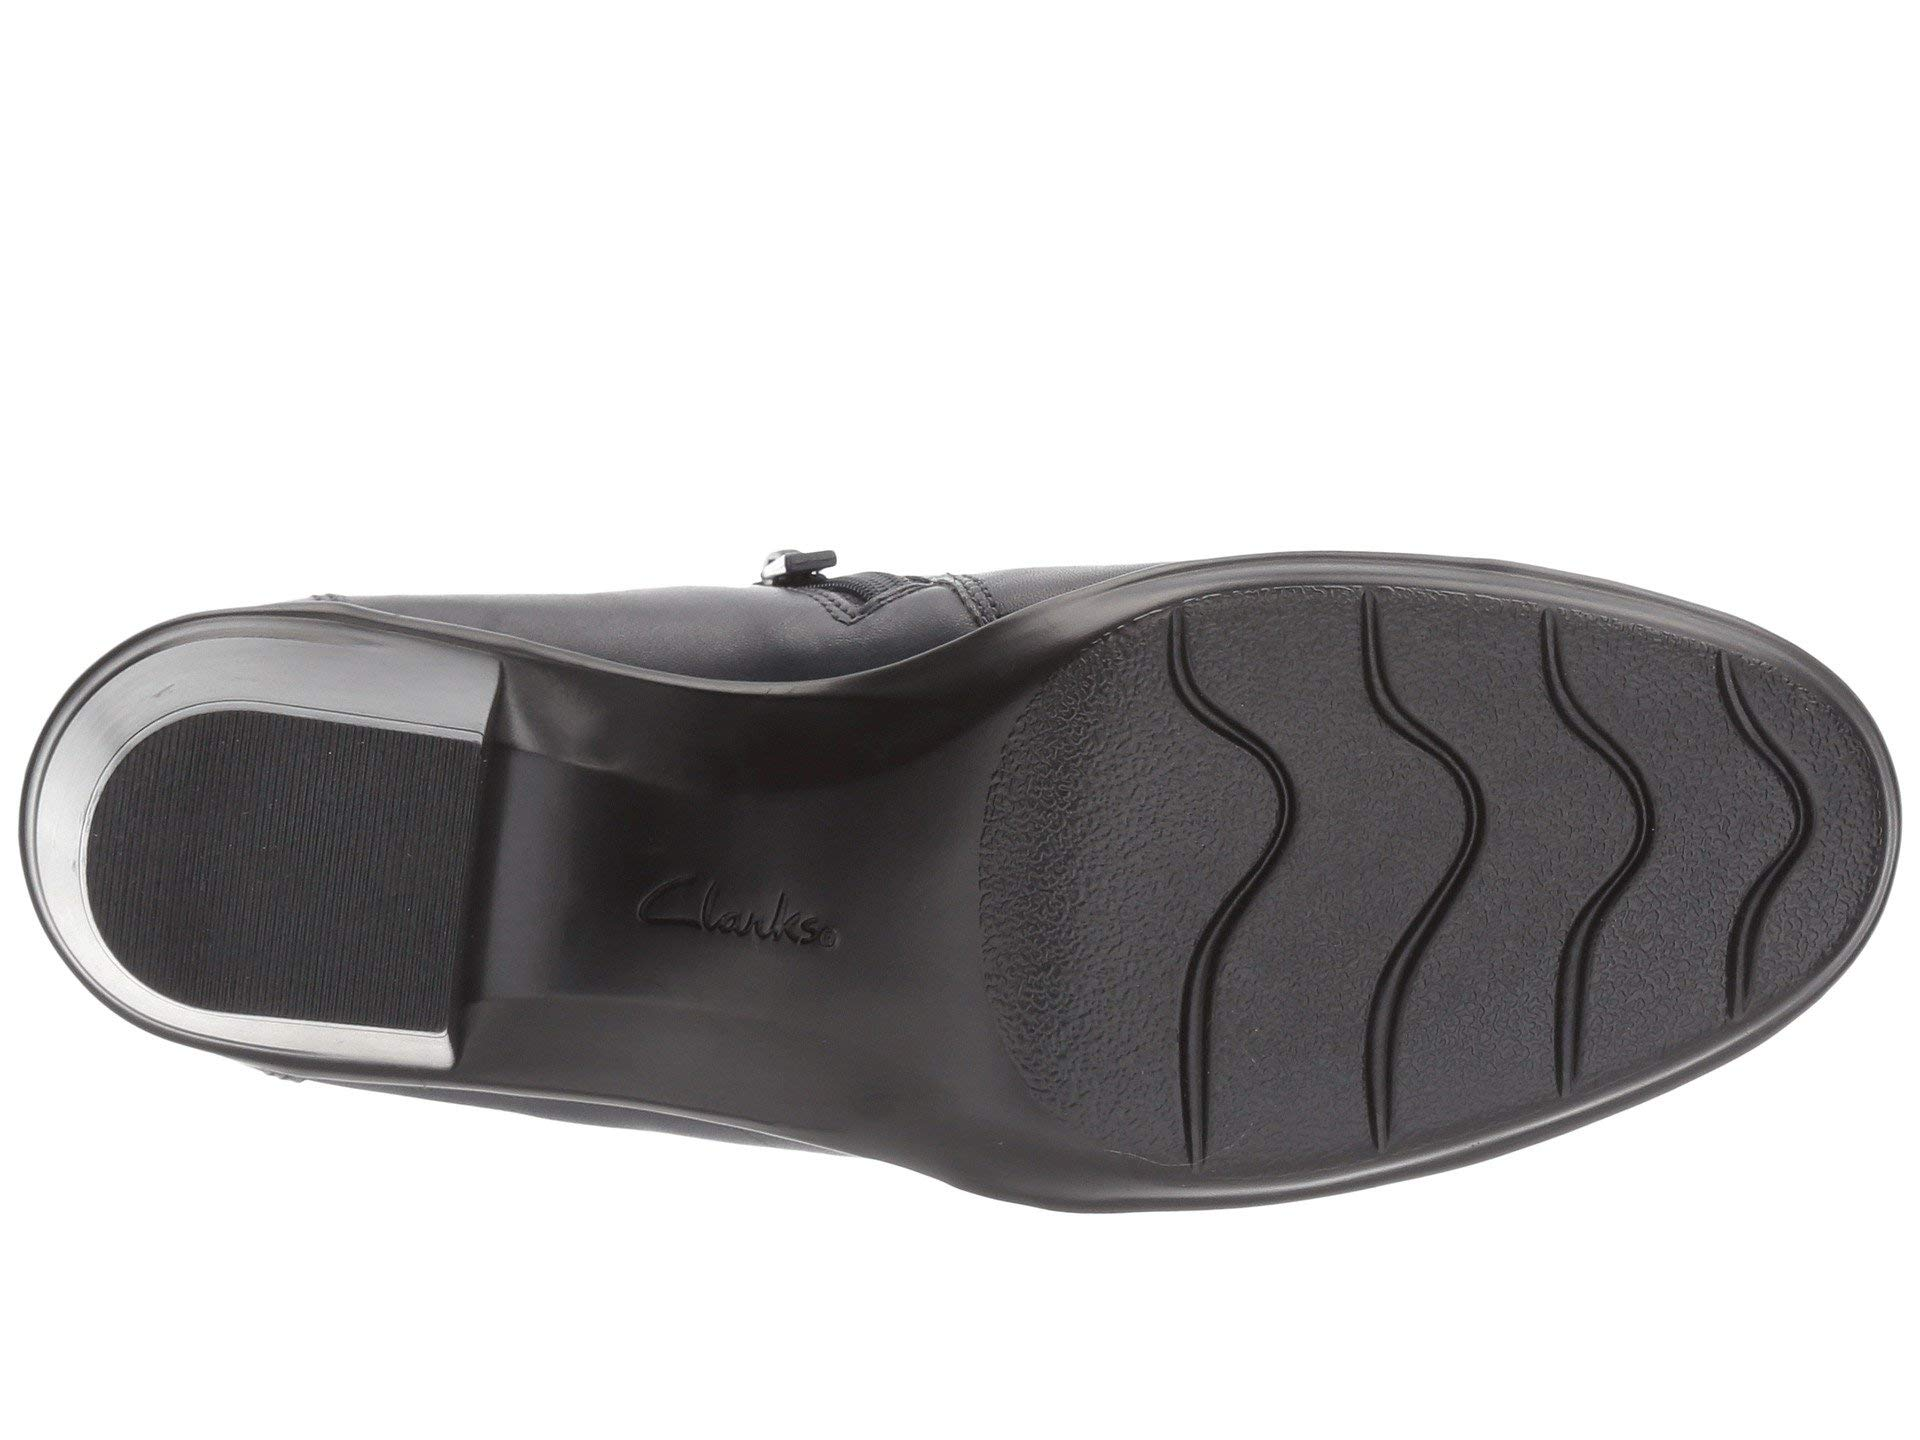line: (180, 759, 386, 985)
other: (1061, 762, 1211, 926)
